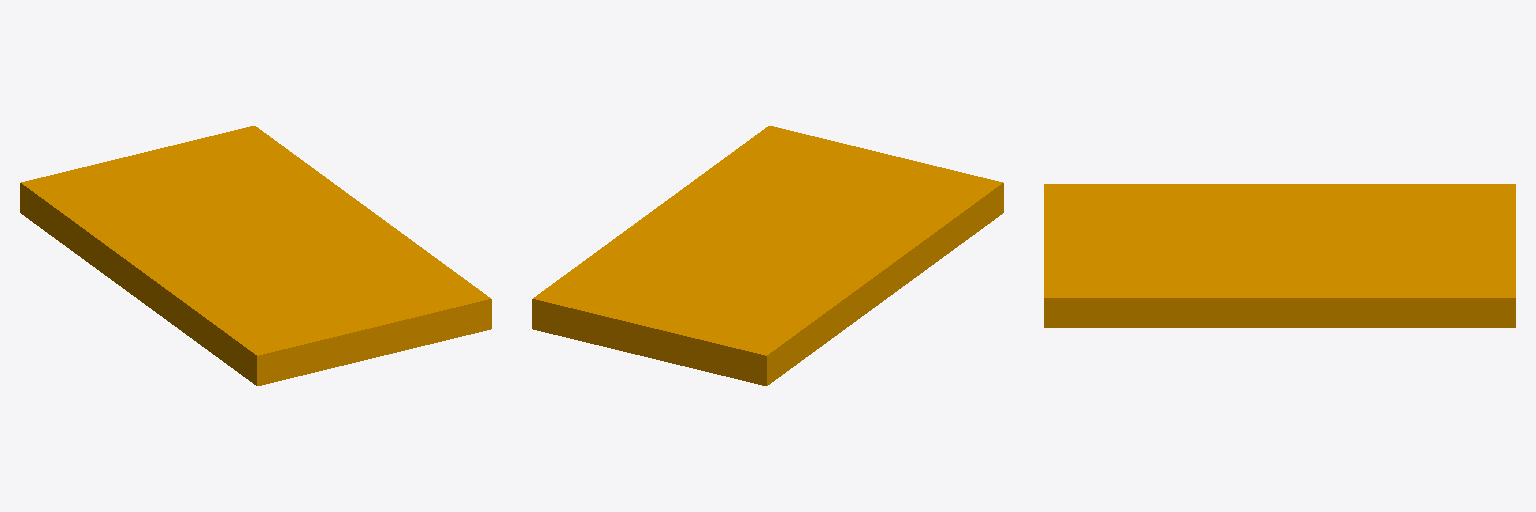
URDF robot description (table):
<robot name="table">
  <link name="table">

    <!-- rosrun gazebo_ros spawn_model -file $(rospack find ur5_single_arm_tufts)/urdf/objects/table.urdf -urdf -x 0.5 -y -0 -z 0.75 -model table -->
    
    <inertial>
      <origin xyz="0.23 0 0.755" rpy="0 0 0" />
      <mass value="1"/>
      <inertia
        ixx="0.07" ixy="0.0" ixz="0.0"
        iyy="0.40" iyz="0.0"
        izz="0.33"/>
    </inertial>

    <visual>
      <geometry>
        <box size="0.4 0.7 0.05"/>
      </geometry>
    </visual>

    <collision>
      <geometry>
        <box size="0.5 0.7 0.05"/>
      </geometry>
    </collision>

  </link>

  <gazebo reference="table">
    <material>Gazebo/Wood</material>
  </gazebo> 

  <gazebo>
    <static>true</static>
  </gazebo>

</robot>

--- Render facts (derived) ---
Views: 3 orthographic renders of the robot side by side, from view 1: azimuth 30°, elevation 25°; view 2: azimuth 150°, elevation 25°; view 3: azimuth 270°, elevation 25°.
Model table with 1 links and 0 joints (none), rooted at table, posed all joints at 0.
Visible links, largest first — view 1: table; view 2: table; view 3: table.
Boxes of the visible links, bbox=[...] form: table: bbox=[20, 126, 491, 385]; table: bbox=[532, 126, 1003, 385]; table: bbox=[1044, 184, 1515, 327].
Size in the robot's own frame: 0.4 by 0.7 by 0.05 metres.
Geometry: primitives only (box / cylinder / sphere), no mesh files.
